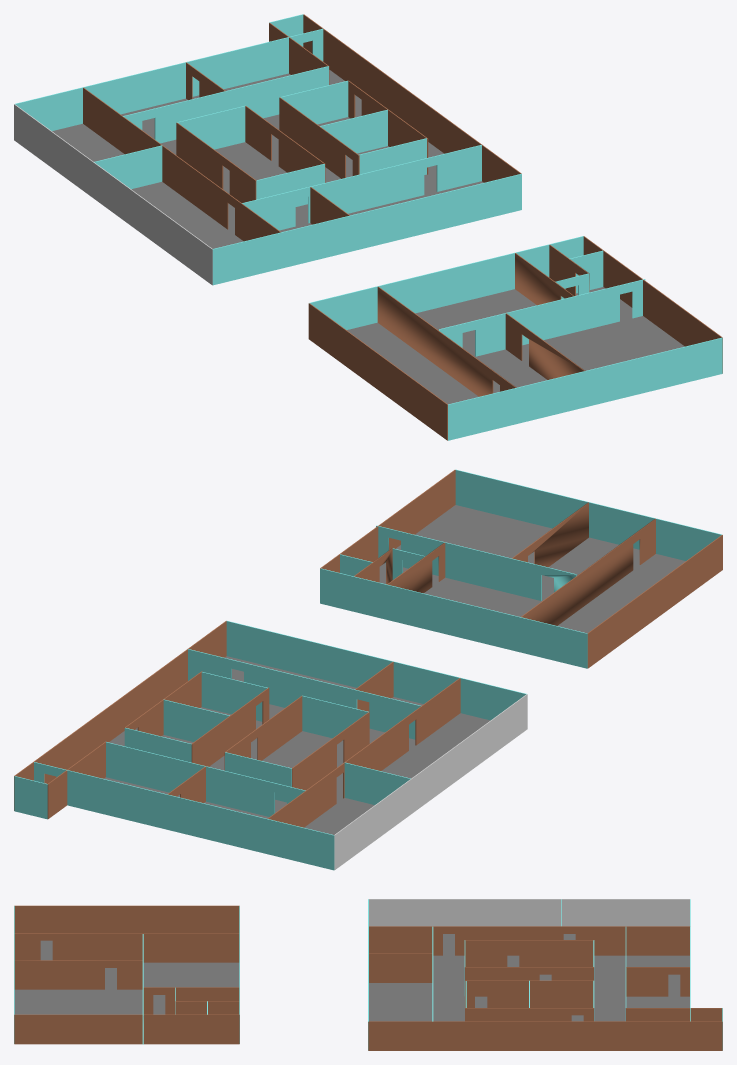
The model's file is SampleStage.fbx.
3 views of the same model, one above another, from view 1: azimuth 30°, elevation 25°; view 2: azimuth 150°, elevation 25°; view 3: azimuth 270°, elevation 25° (orthographic). The views are drawn at different scales.
Visible parts, largest first — view 1: Floor201, Wall103, Wall203, Wall104, Floor101, Wall102, Wall202, Wall118, Wall101, Wall105, Wall206, Wall204 (+20 smaller); view 2: Floor201, Wall104, Wall202, Wall103, Wall203, Floor101, Wall102, Wall101, Wall113, Wall105, Wall206, Wall118 (+20 smaller); view 3: Wall101, Floor101, Wall102, Wall105, Wall201, Floor201, Wall204, Wall207, Wall205, Wall109, Wall111, Wall112 (+6 smaller).
Boxes of the visible parts, x1,y1,x2,y2 form: Floor201: (347, 287, 684, 404); Wall103: (212, 173, 521, 285); Wall203: (448, 337, 722, 440); Wall104: (15, 28, 323, 130); Floor101: (52, 70, 483, 248); Wall102: (14, 104, 212, 285); Wall202: (309, 236, 583, 329); Wall118: (242, 145, 481, 230); Wall101: (303, 14, 521, 182); Wall105: (83, 87, 280, 241); Wall206: (439, 279, 645, 356); Wall204: (308, 303, 447, 440); Floor201: (379, 505, 685, 633); Wall104: (34, 762, 334, 870); Wall202: (320, 568, 587, 668); Wall103: (226, 621, 526, 720); Wall203: (455, 469, 721, 560); Floor101: (104, 656, 490, 834); Wall102: (334, 694, 527, 870); Wall101: (14, 621, 226, 810); Wall113: (106, 742, 305, 816); Wall105: (267, 678, 460, 827); Wall206: (376, 525, 576, 600); Wall118: (188, 649, 420, 739); Wall101: (368, 1021, 722, 1050); Floor101: (369, 934, 689, 1021); Wall102: (368, 899, 689, 926); Wall105: (369, 926, 689, 955); Wall201: (14, 1014, 239, 1044); Floor201: (14, 940, 239, 1014); Wall204: (14, 905, 239, 932); Wall207: (14, 933, 239, 962); Wall205: (14, 960, 142, 989); Wall109: (465, 980, 593, 1007); Wall111: (465, 940, 593, 966); Wall112: (369, 953, 432, 982).
Bounding box in the file's own units: 3610 × 400 × 8810.
Materials: 3 (2 with a texture image).
